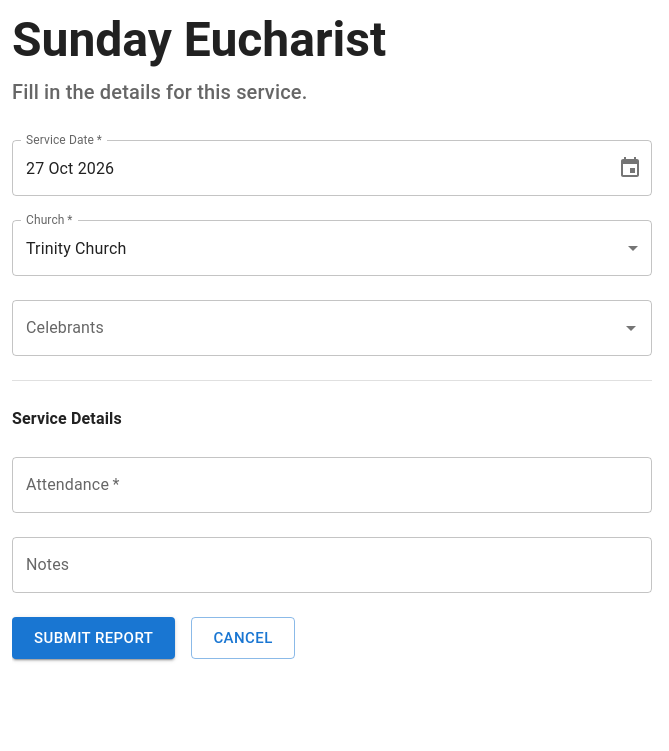
Scenario: ServiceSubmitPage › shows an error when submission fails
expect the heading "Sunday Eucharist" is shown: met, box [12,11,386,68]
Type "30" into the number field labelled "Attendance *" at (332, 485), box [12,457,652,513]
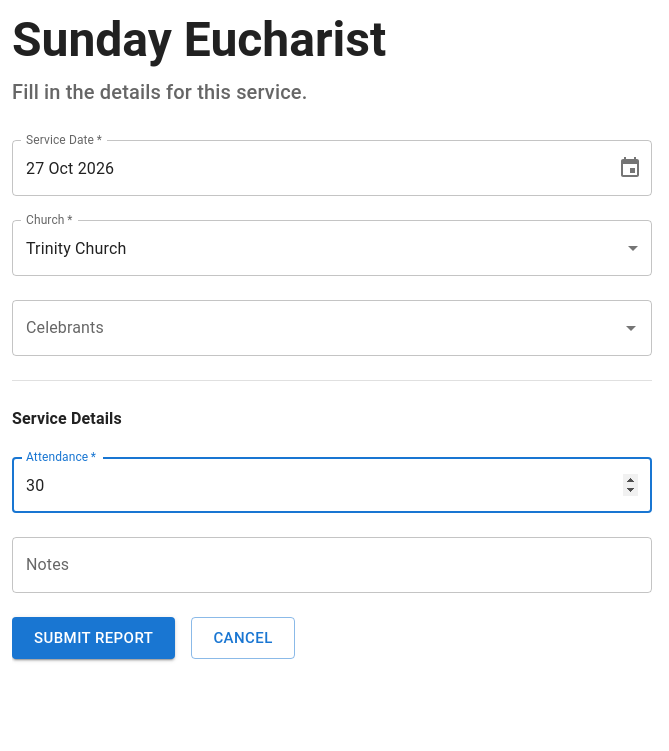
Click the button "Submit Report" at (94, 638), box [12,617,175,659]
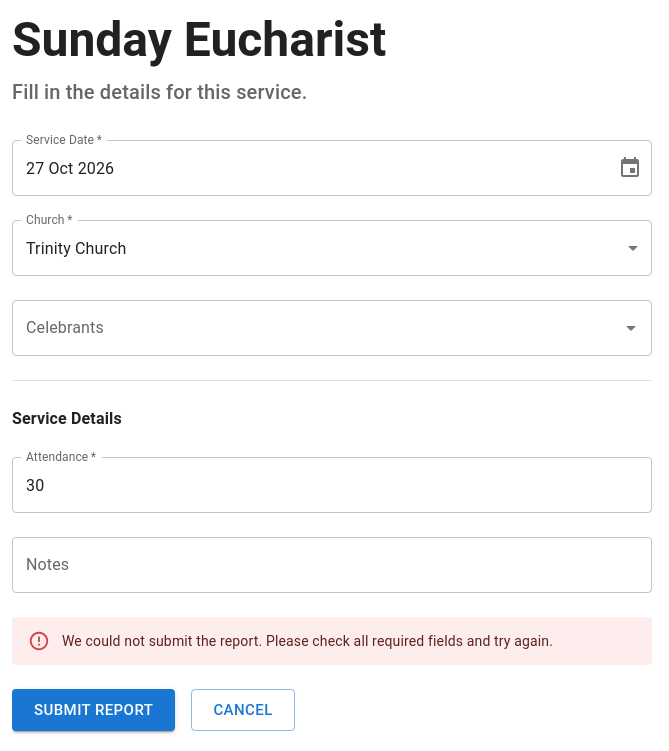
expect the text "We could not submit the report. Please check all required fields and try again." is shown: met, box [62,633,553,649]
